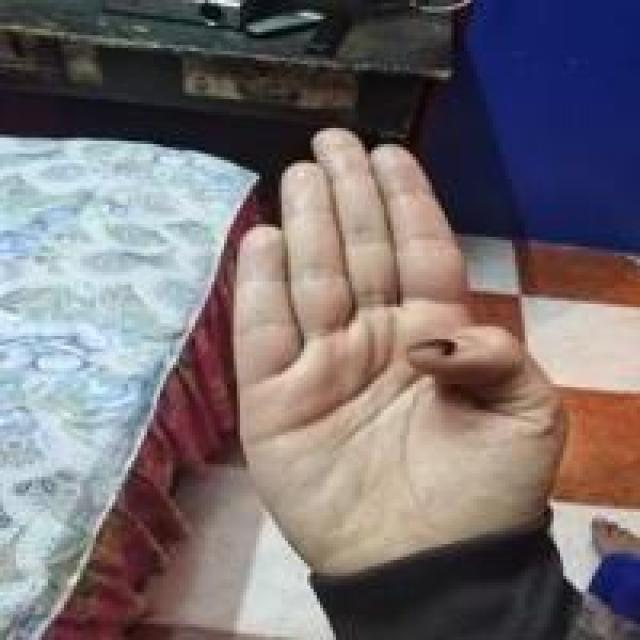B: (205, 123, 579, 546)
